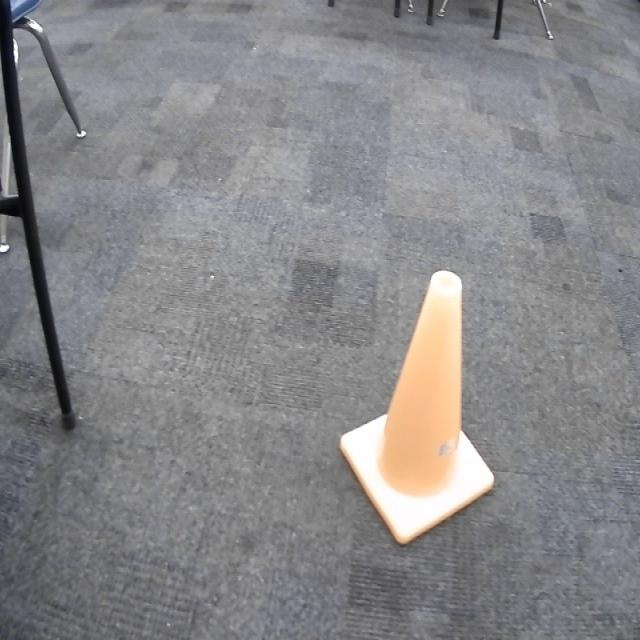cone: (337, 264, 498, 553)
